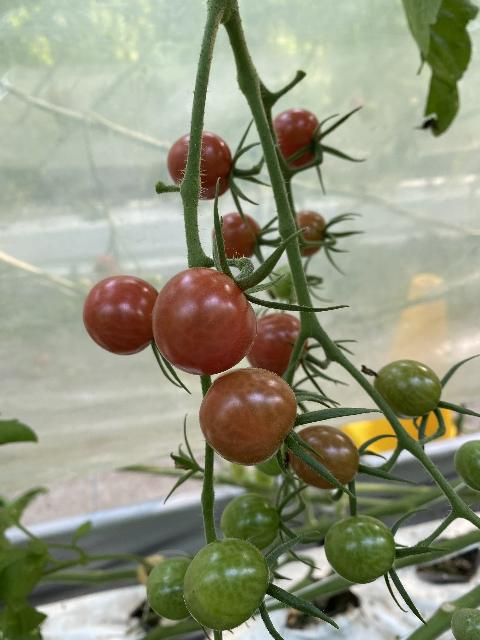l_fully_ripened: (151, 267, 258, 376), (82, 274, 159, 356), (165, 131, 236, 199), (247, 313, 307, 378), (272, 107, 321, 169), (212, 213, 261, 259)
l_green: (181, 537, 271, 631), (323, 516, 397, 585), (371, 359, 442, 419), (219, 492, 282, 550), (146, 557, 192, 621), (454, 439, 480, 493), (450, 607, 479, 640)
l_half_ripened: (198, 366, 297, 467), (287, 426, 360, 490), (297, 209, 326, 257)
